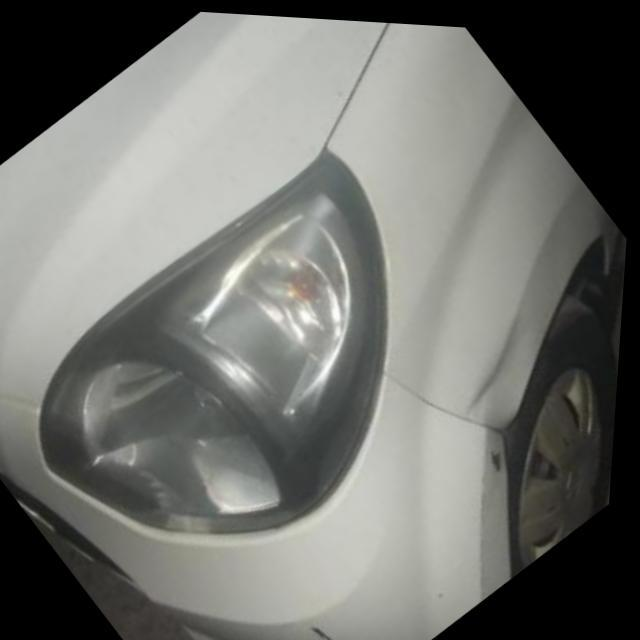crack: (310, 618, 353, 640), (493, 441, 514, 472)
dent: (476, 353, 542, 435)
